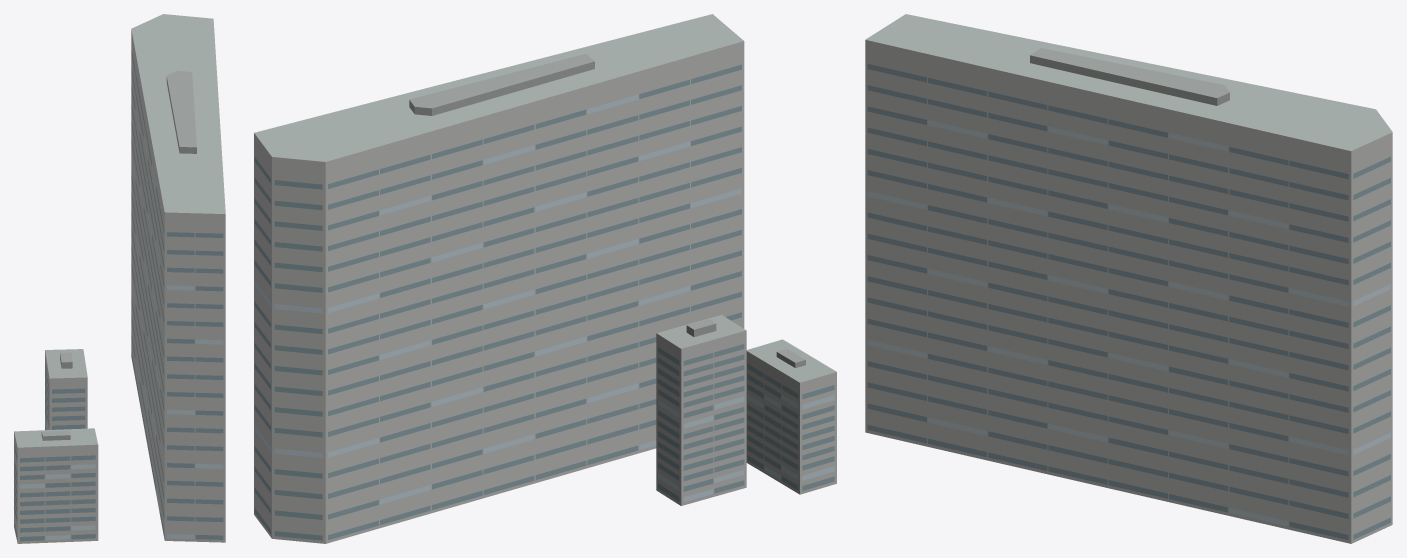
Rendered from apt-a14320002.glb.
The picture shows the model from 3 angles, left to right: view 1: azimuth 30°, elevation 25°; view 2: azimuth 150°, elevation 25°; view 3: azimuth 270°, elevation 25°; orthographic projection. The views are drawn at different scales.
Visible parts, largest first — view 1: apt-a14320002; view 2: apt-a14320002; view 3: apt-a14320002.
Part boxes in pixels (box(x1,y1,x2,y2)): apt-a14320002: box(14, 14, 225, 543); apt-a14320002: box(254, 14, 836, 543); apt-a14320002: box(865, 14, 1392, 543).
Bounding box in the file's own units: 134 × 123 × 147.
